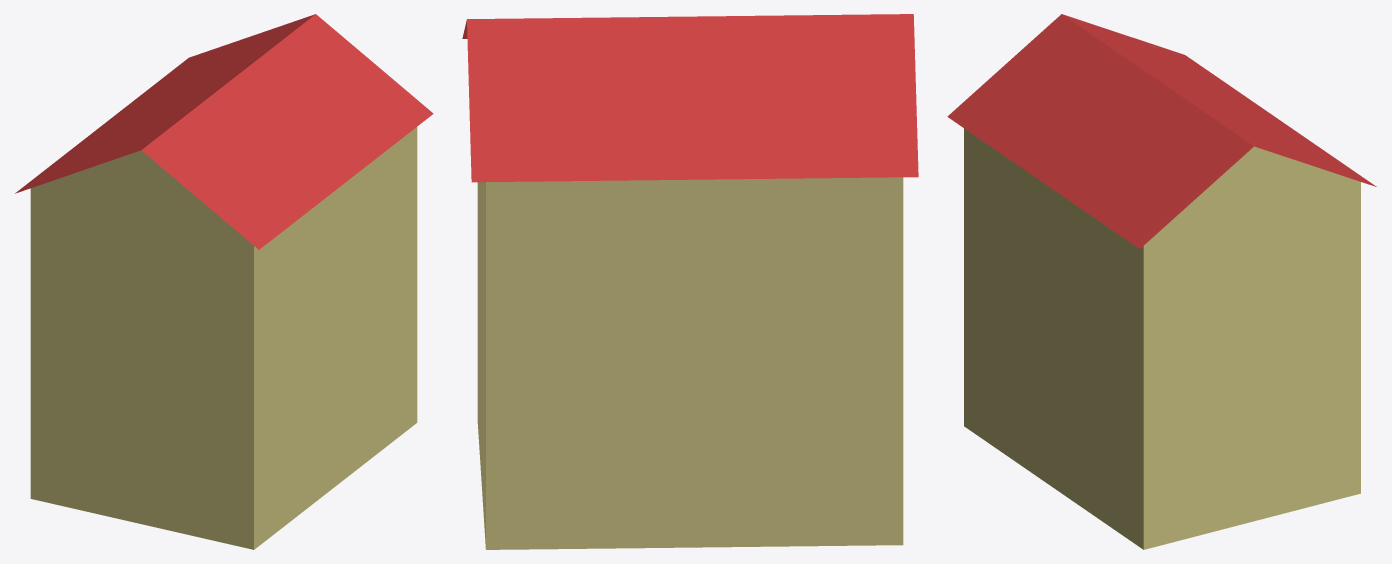
The picture shows the model from 3 angles, left to right: view 1: azimuth 30°, elevation 25°; view 2: azimuth 150°, elevation 25°; view 3: azimuth 270°, elevation 25°; orthographic projection. The views are drawn at different scales.
Size of the model in its own units: 9.46 by 8.86 by 8.65.
